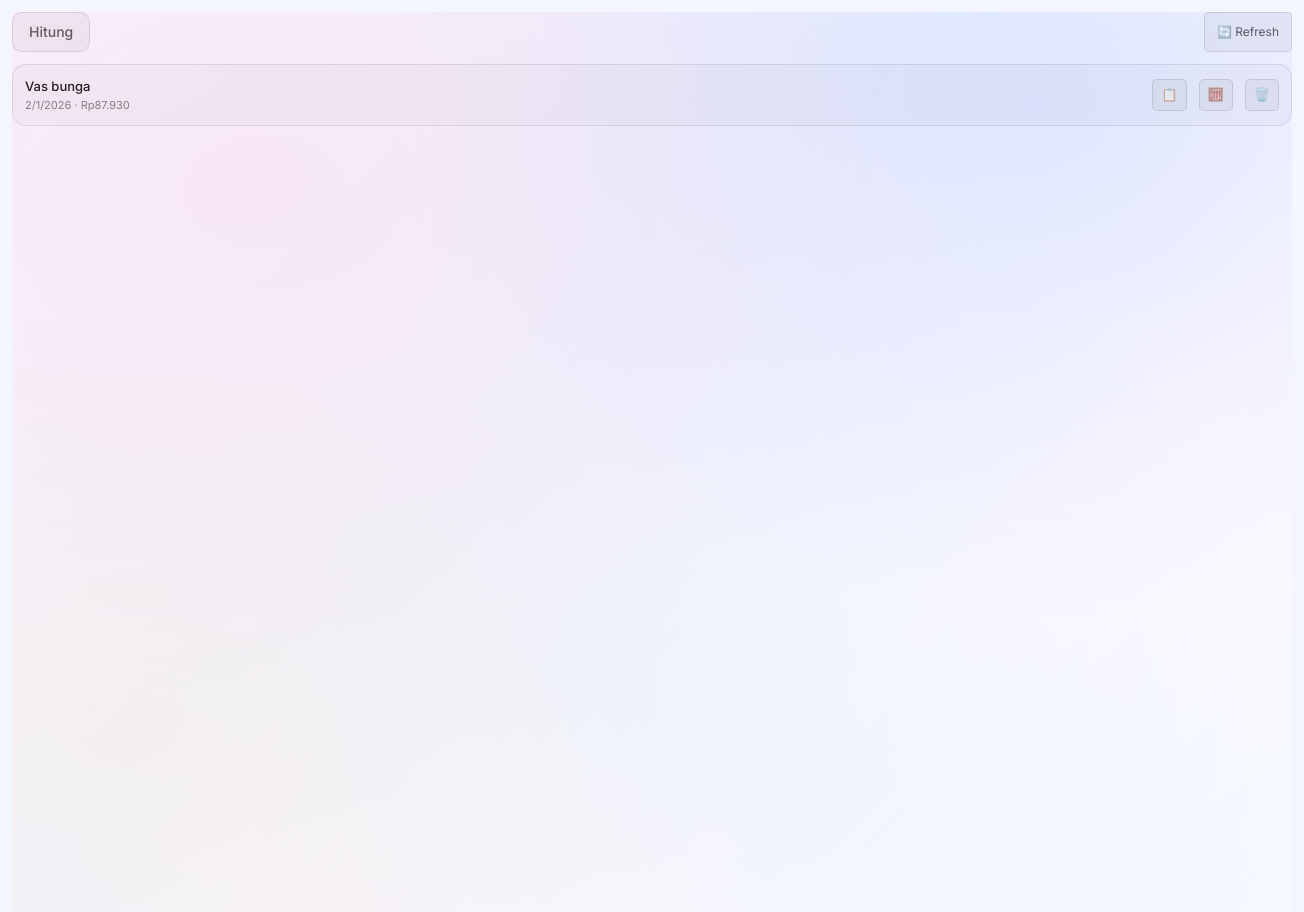
Test: RiwayatList: Duplikat & Hitung ulang › klik Hitung ulang, harga SAMA → tak ada confirm, pesan 'Tidak ada perubahan', putKalkulasi TIDAK dipanggil
The image size is (1304, 912).
expect the text "Vas bunga" is shown: met, box [25,78,90,94]
Step 1. Click the button named "Hitung ulang" → (1216, 95), box [1199,79,1233,111]
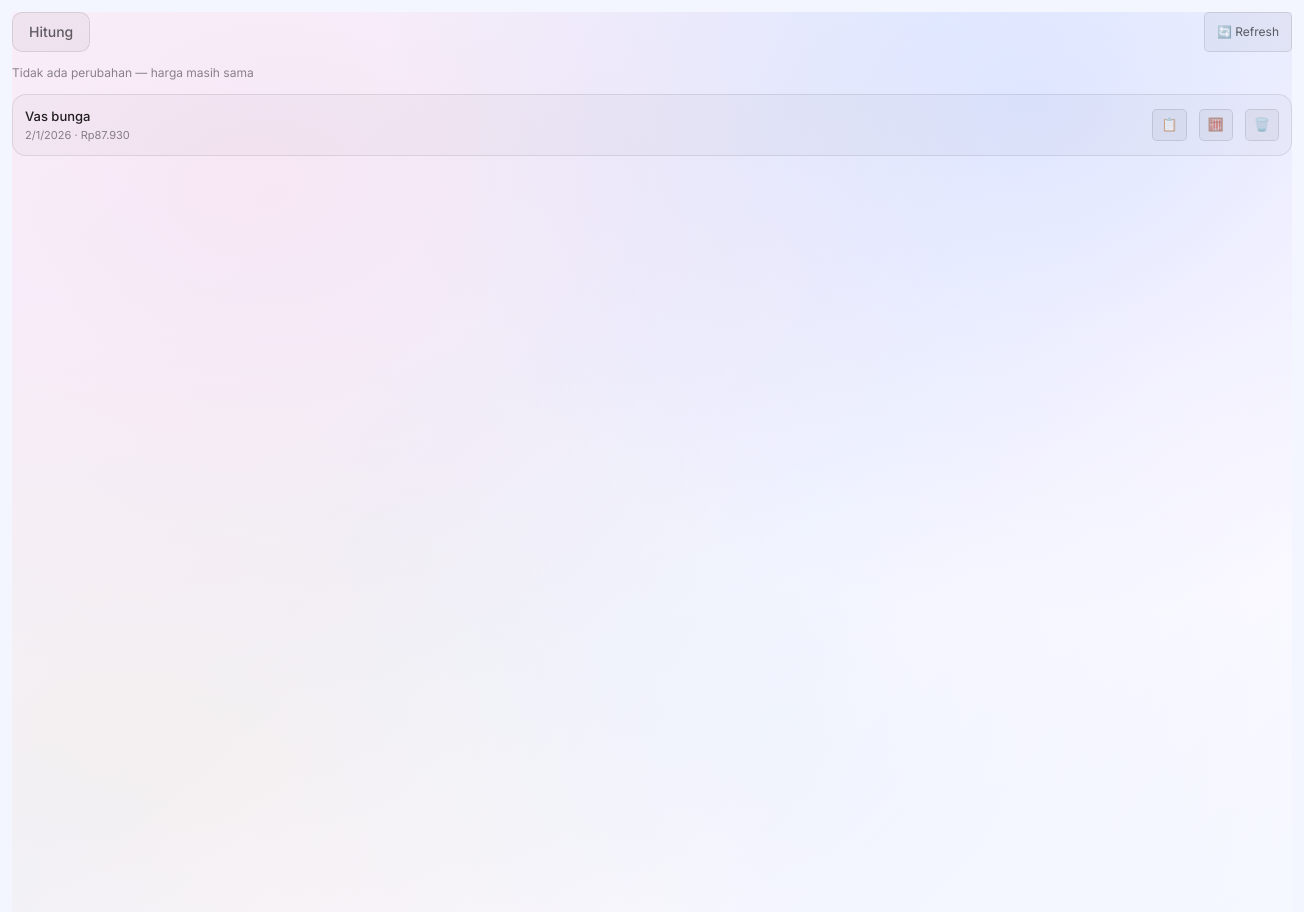
expect the text "Tidak ada perubahan — harga masih sama" is shown: met, box [12,65,254,80]
